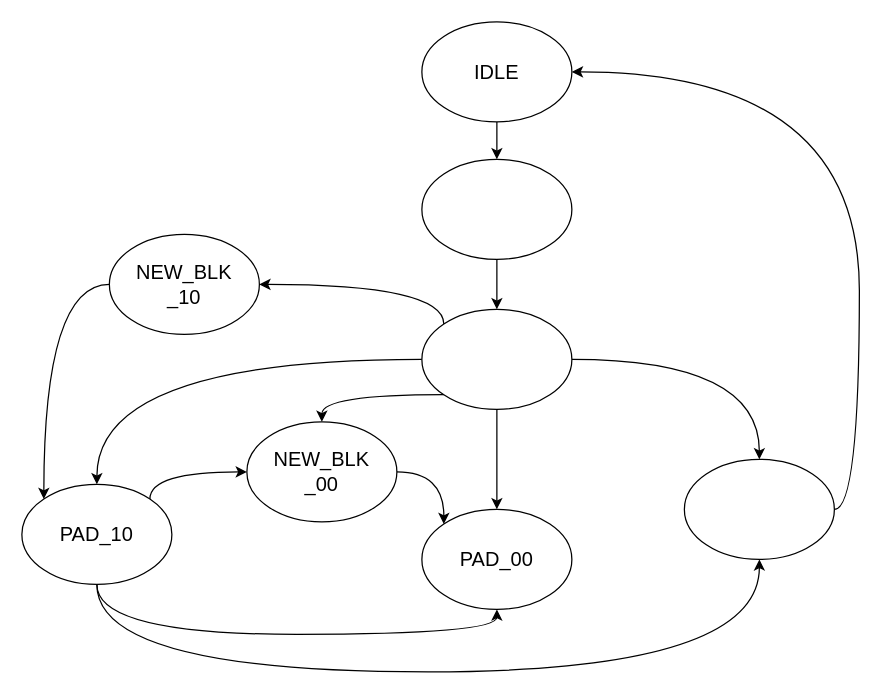
This 881x694 diagram has some shape labels left out. Each missing label, with the centre of its shape:
"INPT_MSG" belongs at [496,208].
"INPT_PAD_ LST_MSG" belongs at [496,358].
"PAD_LEN" belongs at [758,508].
